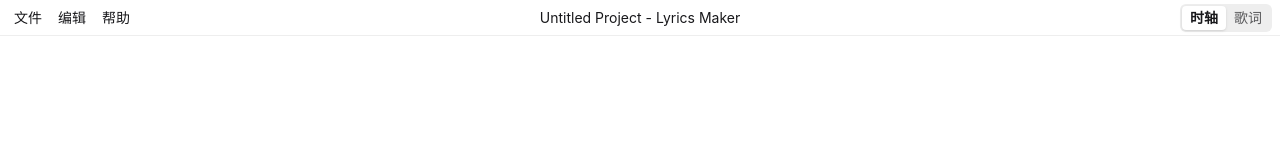
Test: menuBar › translates lyrics.replaceAll in undo and redo menu labels
The width and height of the screenshot is (1280, 160).
Step 1. Click the button with test id "menu-trigger-edit" → (72, 18), box top-left (52, 6), bottom-right (92, 30)
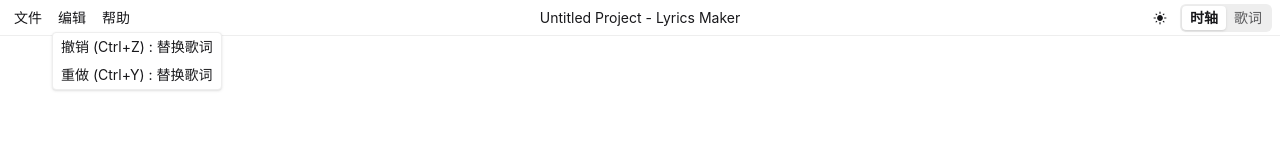
Check: the menu item with test id "menu-undo" shows "替换歌词", box top-left (53, 32), bottom-right (221, 60)
Check: the menu item with test id "menu-redo" shows "替换歌词", box top-left (53, 60), bottom-right (221, 88)
